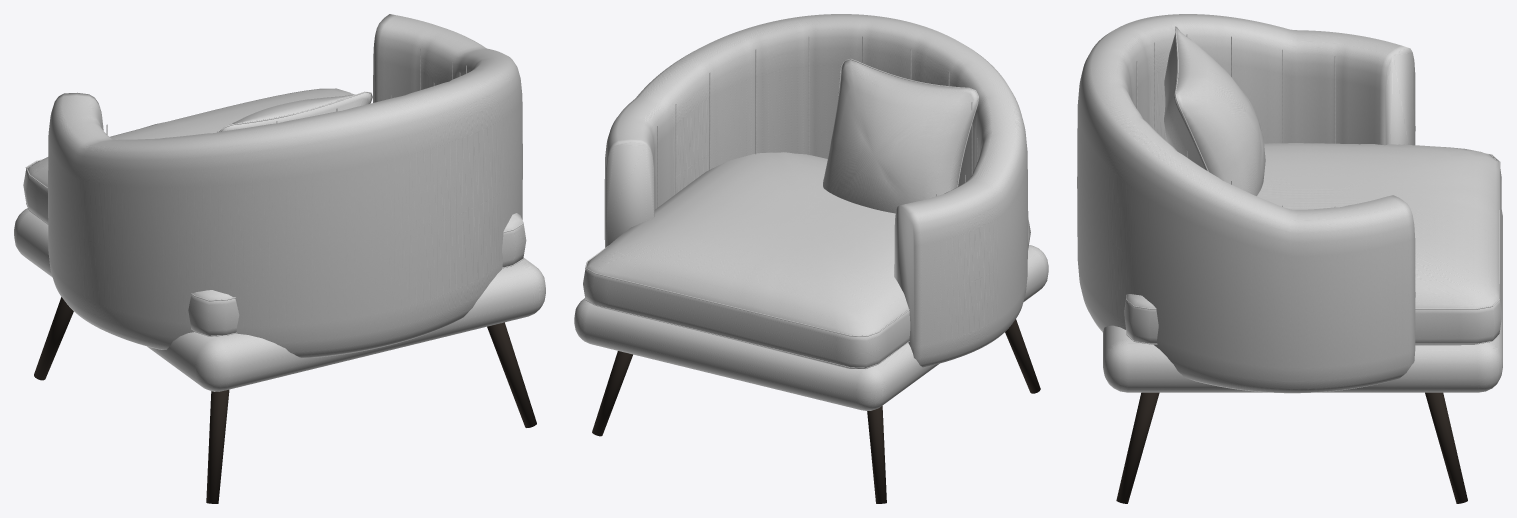
The model's file is armchair-classic.glb.
3 views of the same model, side by side, from view 1: azimuth 30°, elevation 25°; view 2: azimuth 150°, elevation 25°; view 3: azimuth 270°, elevation 25° (orthographic). The views are drawn at different scales.
Parts seen in each view (by area): view 1: Curved channelled upholstered shell, Seat foundation, Full rounded seat, Loose back pillow, Splayed satin leg, Splayed satin leg.002, Splayed satin leg.001; view 2: Curved channelled upholstered shell, Full rounded seat, Loose back pillow, Seat foundation, Splayed satin leg.001, Splayed satin leg.003, Splayed satin leg, Full rounded seat · upper stitched edge; view 3: Curved channelled upholstered shell, Full rounded seat, Loose back pillow, Seat foundation, Splayed satin leg.003, Splayed satin leg.002, Full rounded seat · upper stitched edge.
Part boxes in pixels (box(x1,y1,x2,y2)): Curved channelled upholstered shell: box(48, 14, 522, 357); Seat foundation: box(14, 208, 545, 391); Full rounded seat: box(23, 88, 526, 335); Loose back pillow: box(221, 92, 371, 131); Splayed satin leg: box(206, 389, 229, 503); Splayed satin leg.002: box(487, 322, 536, 427); Splayed satin leg.001: box(34, 297, 73, 380); Curved channelled upholstered shell: box(604, 14, 1028, 367); Full rounded seat: box(583, 152, 1030, 368); Loose back pillow: box(823, 60, 978, 213); Seat foundation: box(574, 245, 1048, 410); Splayed satin leg.001: box(867, 406, 886, 503); Splayed satin leg.003: box(592, 351, 632, 436); Splayed satin leg: box(1005, 319, 1040, 393); Full rounded seat · upper stitched edge: box(585, 217, 1028, 336); Curved channelled upholstered shell: box(1077, 14, 1415, 393); Full rounded seat: box(1124, 143, 1501, 345); Loose back pillow: box(1164, 27, 1265, 195); Seat foundation: box(1103, 210, 1502, 392); Splayed satin leg.003: box(1425, 392, 1467, 503); Splayed satin leg.002: box(1116, 392, 1159, 503); Full rounded seat · upper stitched edge: box(1126, 153, 1500, 309).
Size of the model in its own units: 0.9343 by 0.776 by 0.8294.
Materials: 2 (1 with a texture image).
